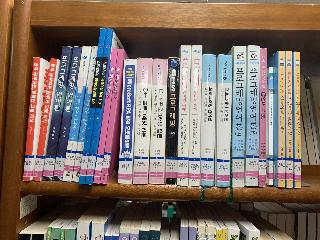book-spine: (79, 28, 106, 184), (86, 28, 112, 185), (42, 45, 72, 181), (53, 46, 82, 182), (63, 45, 91, 182), (72, 45, 98, 182), (93, 49, 117, 183), (32, 58, 57, 181), (101, 49, 123, 184), (148, 59, 168, 184), (215, 54, 233, 188), (133, 58, 152, 184), (118, 59, 137, 184), (244, 46, 260, 187), (23, 57, 41, 181), (232, 46, 247, 188), (201, 54, 216, 187), (177, 45, 191, 186), (188, 45, 202, 186), (165, 58, 180, 184), (259, 48, 267, 187), (278, 51, 285, 188), (286, 51, 293, 188), (294, 52, 301, 188), (269, 67, 273, 185)
